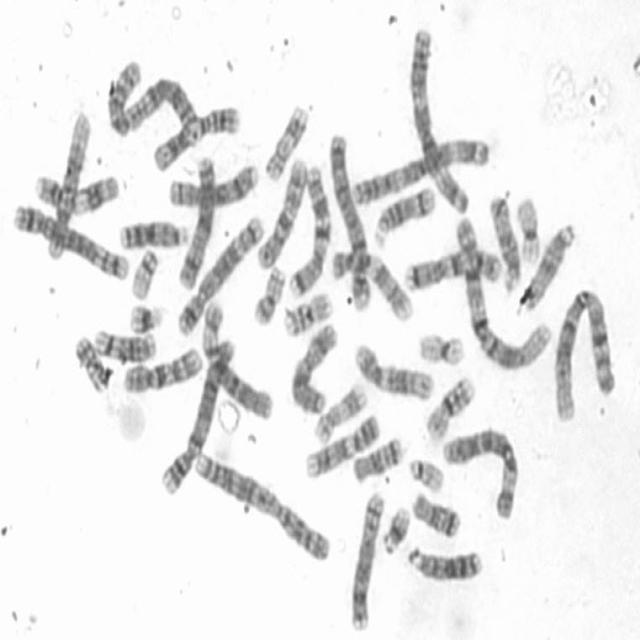A1: (454, 210, 554, 372), (550, 284, 616, 424)
A2: (192, 446, 333, 564), (102, 61, 202, 138)
A3: (406, 23, 470, 215), (349, 132, 491, 206)
B4: (160, 336, 240, 498), (326, 128, 372, 313)
B5: (175, 212, 265, 337), (12, 198, 131, 280)
C10: (254, 155, 309, 270), (120, 342, 203, 396)
C11: (150, 101, 241, 172), (31, 168, 120, 216)
C12: (44, 107, 92, 261), (351, 338, 435, 402)
C6: (199, 295, 274, 422), (439, 425, 519, 522)
C7: (285, 158, 331, 296), (401, 242, 504, 294)
C8: (347, 488, 385, 632), (165, 160, 260, 210)
C9: (328, 243, 414, 323), (301, 410, 381, 480)
D13: (404, 541, 484, 584), (117, 214, 187, 252)
D14: (370, 182, 437, 248), (91, 324, 158, 365)
D15: (517, 218, 578, 313), (486, 190, 522, 293)
E16: (422, 373, 476, 442), (280, 289, 334, 338)
E17: (260, 100, 310, 183), (310, 378, 368, 446)
E18: (349, 434, 404, 486), (409, 487, 462, 540)
F19: (415, 327, 467, 367), (514, 193, 541, 266)
F20: (250, 262, 288, 327), (72, 331, 110, 393)
G21: (379, 502, 412, 556), (126, 298, 165, 337)
G22: (128, 246, 160, 300), (407, 452, 445, 493)
X: (175, 151, 217, 290), (287, 318, 339, 416)
